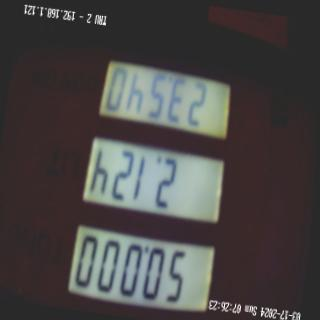screen: (57, 35, 247, 320)
